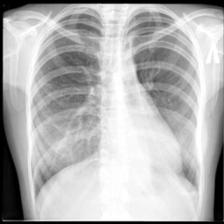tuberculosis: (23, 6, 205, 219)
